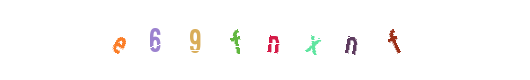6: (125, 0, 205, 80)
9: (196, 0, 276, 80)
E: (121, 0, 201, 80)
F: (209, 0, 289, 80), (311, 0, 391, 80)
N: (225, 0, 305, 80), (292, 0, 372, 80)
X: (271, 0, 351, 80)
